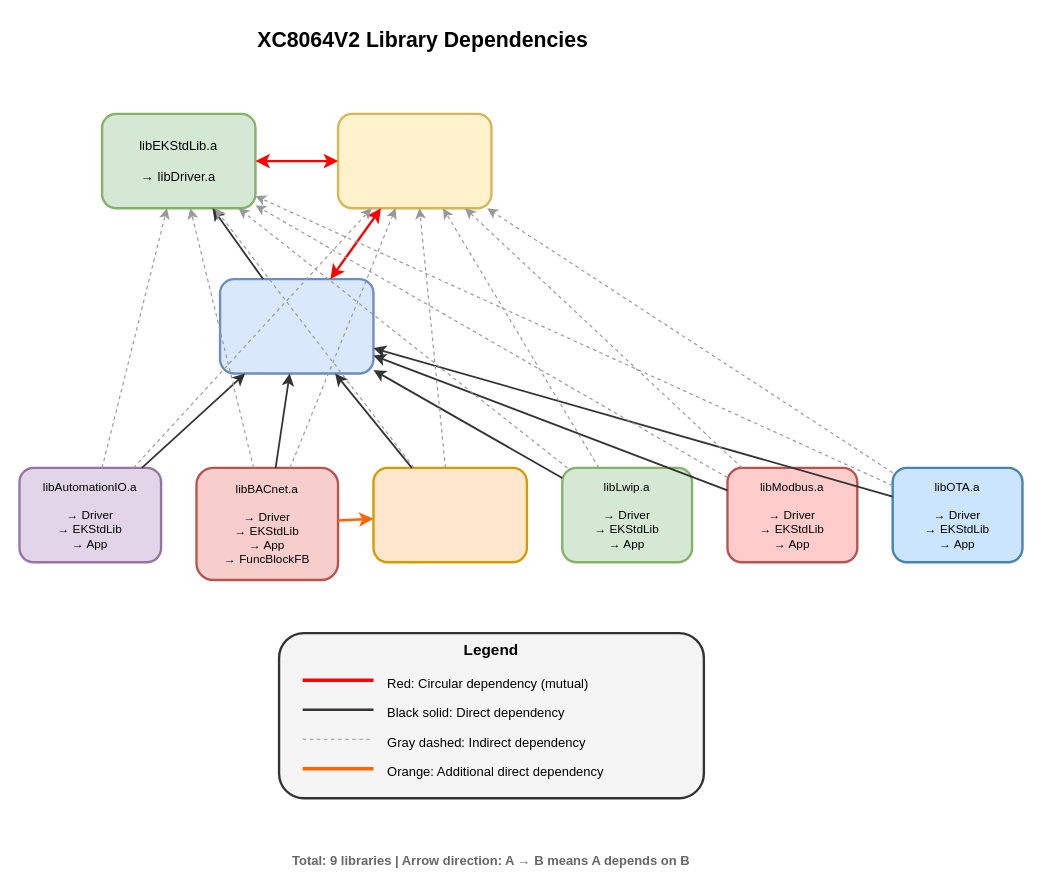
Some shapes in this 1042 by 894 pixel diagram are drawn without their labels. Here are the shapes that lost their labels. From the top down, the centre of each, then its label:
At point (414, 160): "libDriver.a → libEKStdLib.a → libApp.a".
At point (296, 325): "libApp.a → libDriver.a → libEKStdLib.a".
At point (449, 514): "libFuncBlockFB.a → Driver → EKStdLib → App".
